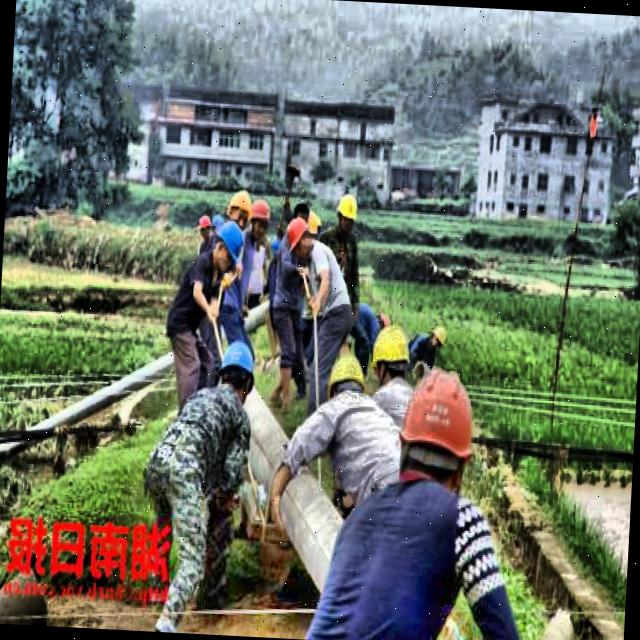helmet: (396, 363, 482, 505), (371, 322, 411, 398), (215, 338, 258, 408), (323, 348, 367, 412), (214, 217, 246, 276), (226, 187, 255, 236), (331, 194, 360, 237), (286, 215, 314, 258), (248, 197, 271, 244), (428, 318, 449, 353)
